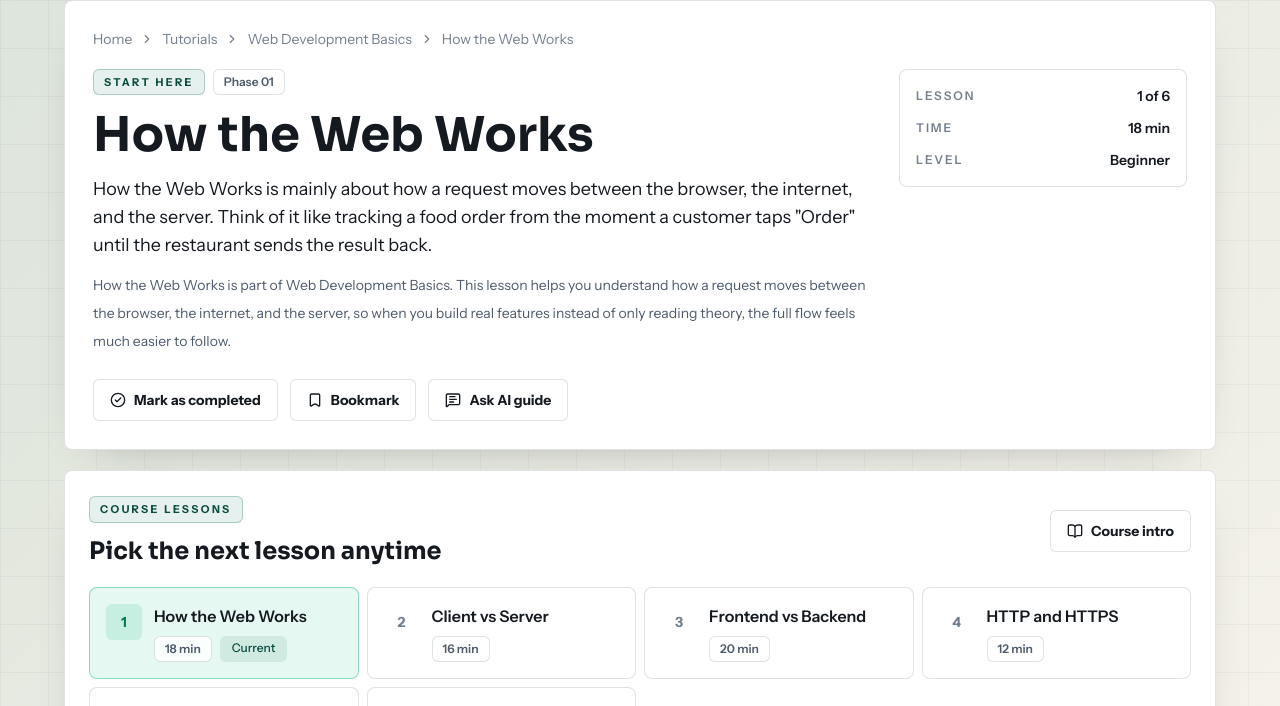
TutorialTopic › lets learners complete and bookmark the current topic
Click the button "Mark as completed" at (185, 400), box 93,379 -> 278,421
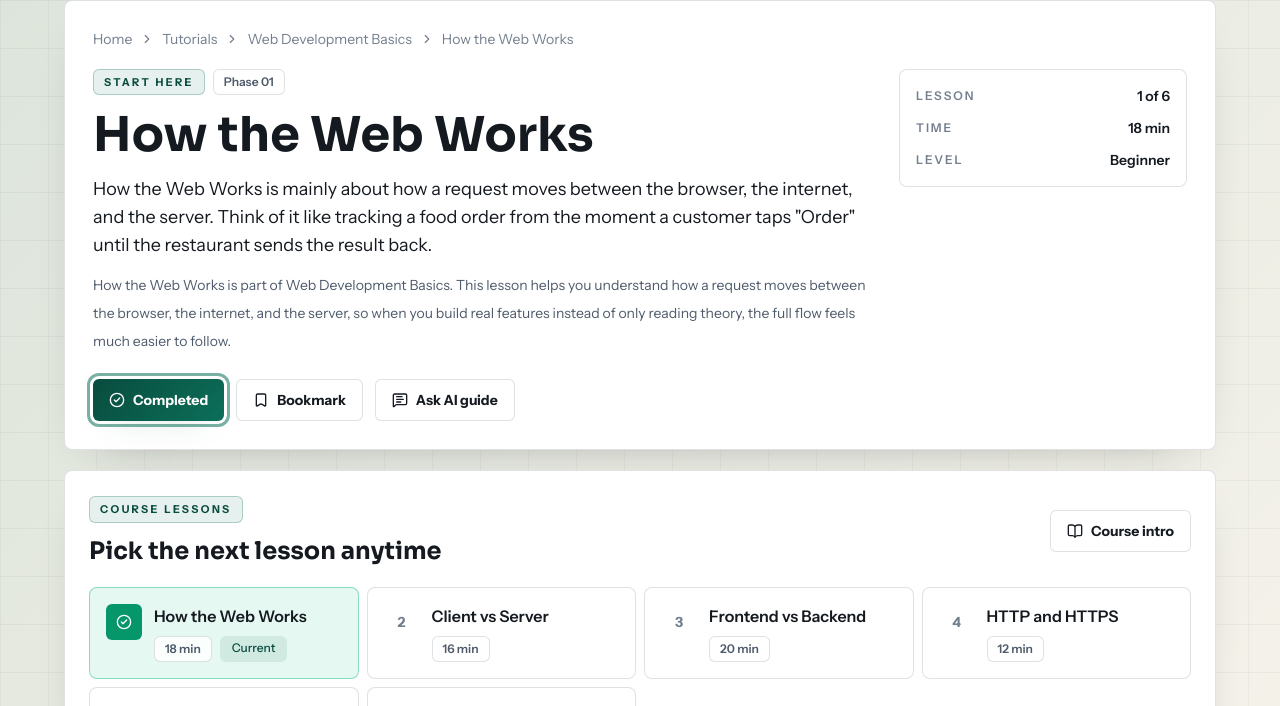
Click the button "Bookmark" at (300, 400), box 236,379 -> 363,421
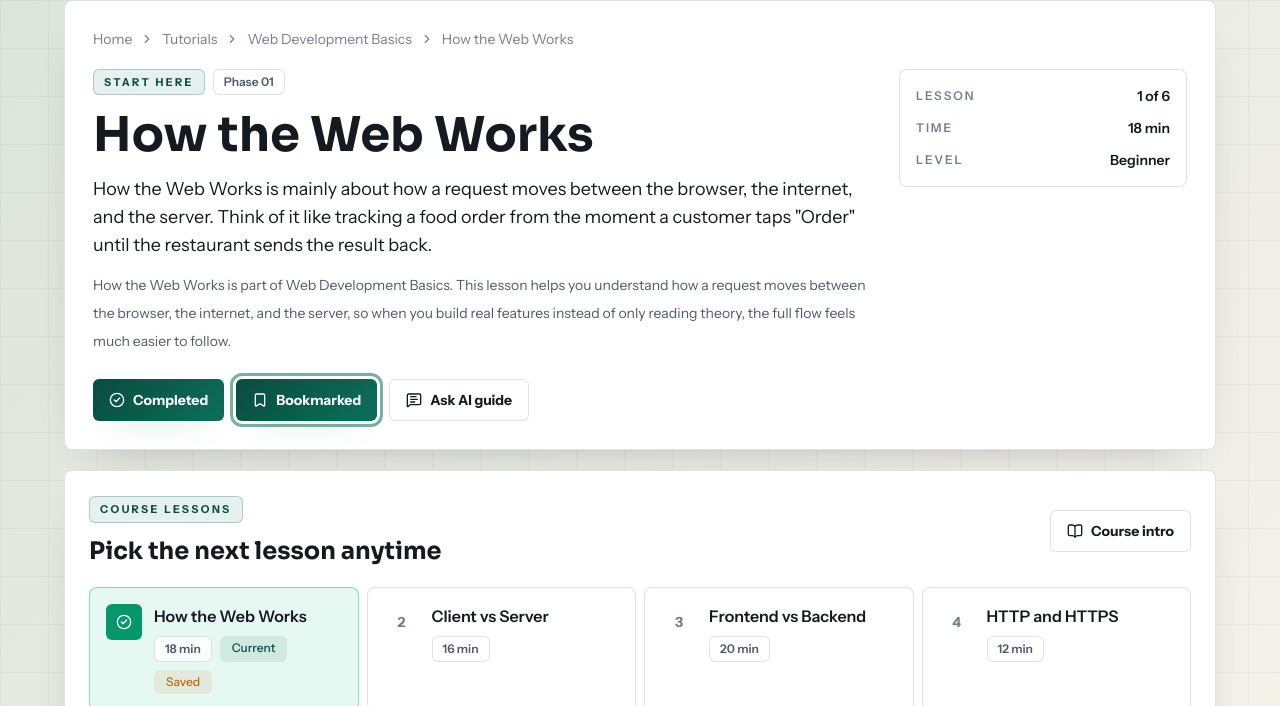
Expected: the button "Completed" is shown, 93,379 -> 224,421
Expected: the button "Bookmarked" is shown, 236,379 -> 377,421
